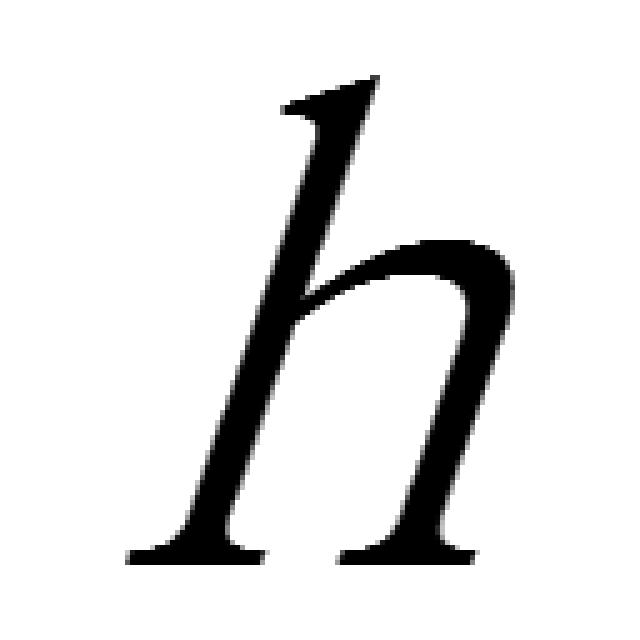H: (130, 75, 515, 570)
